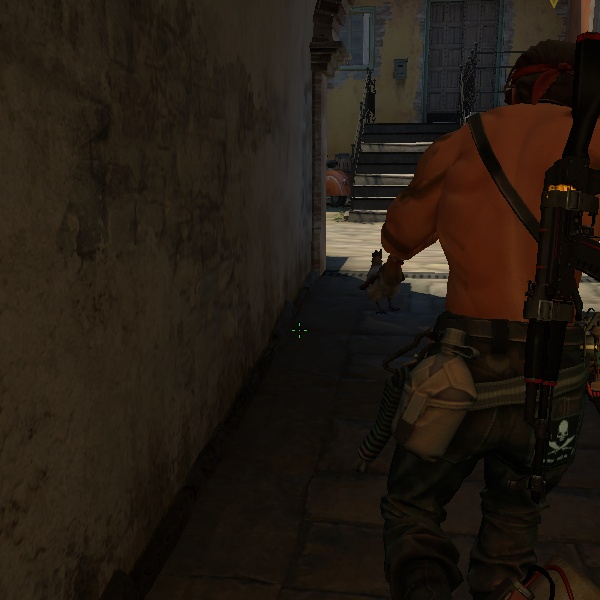t_body: (289, 0, 597, 600)
